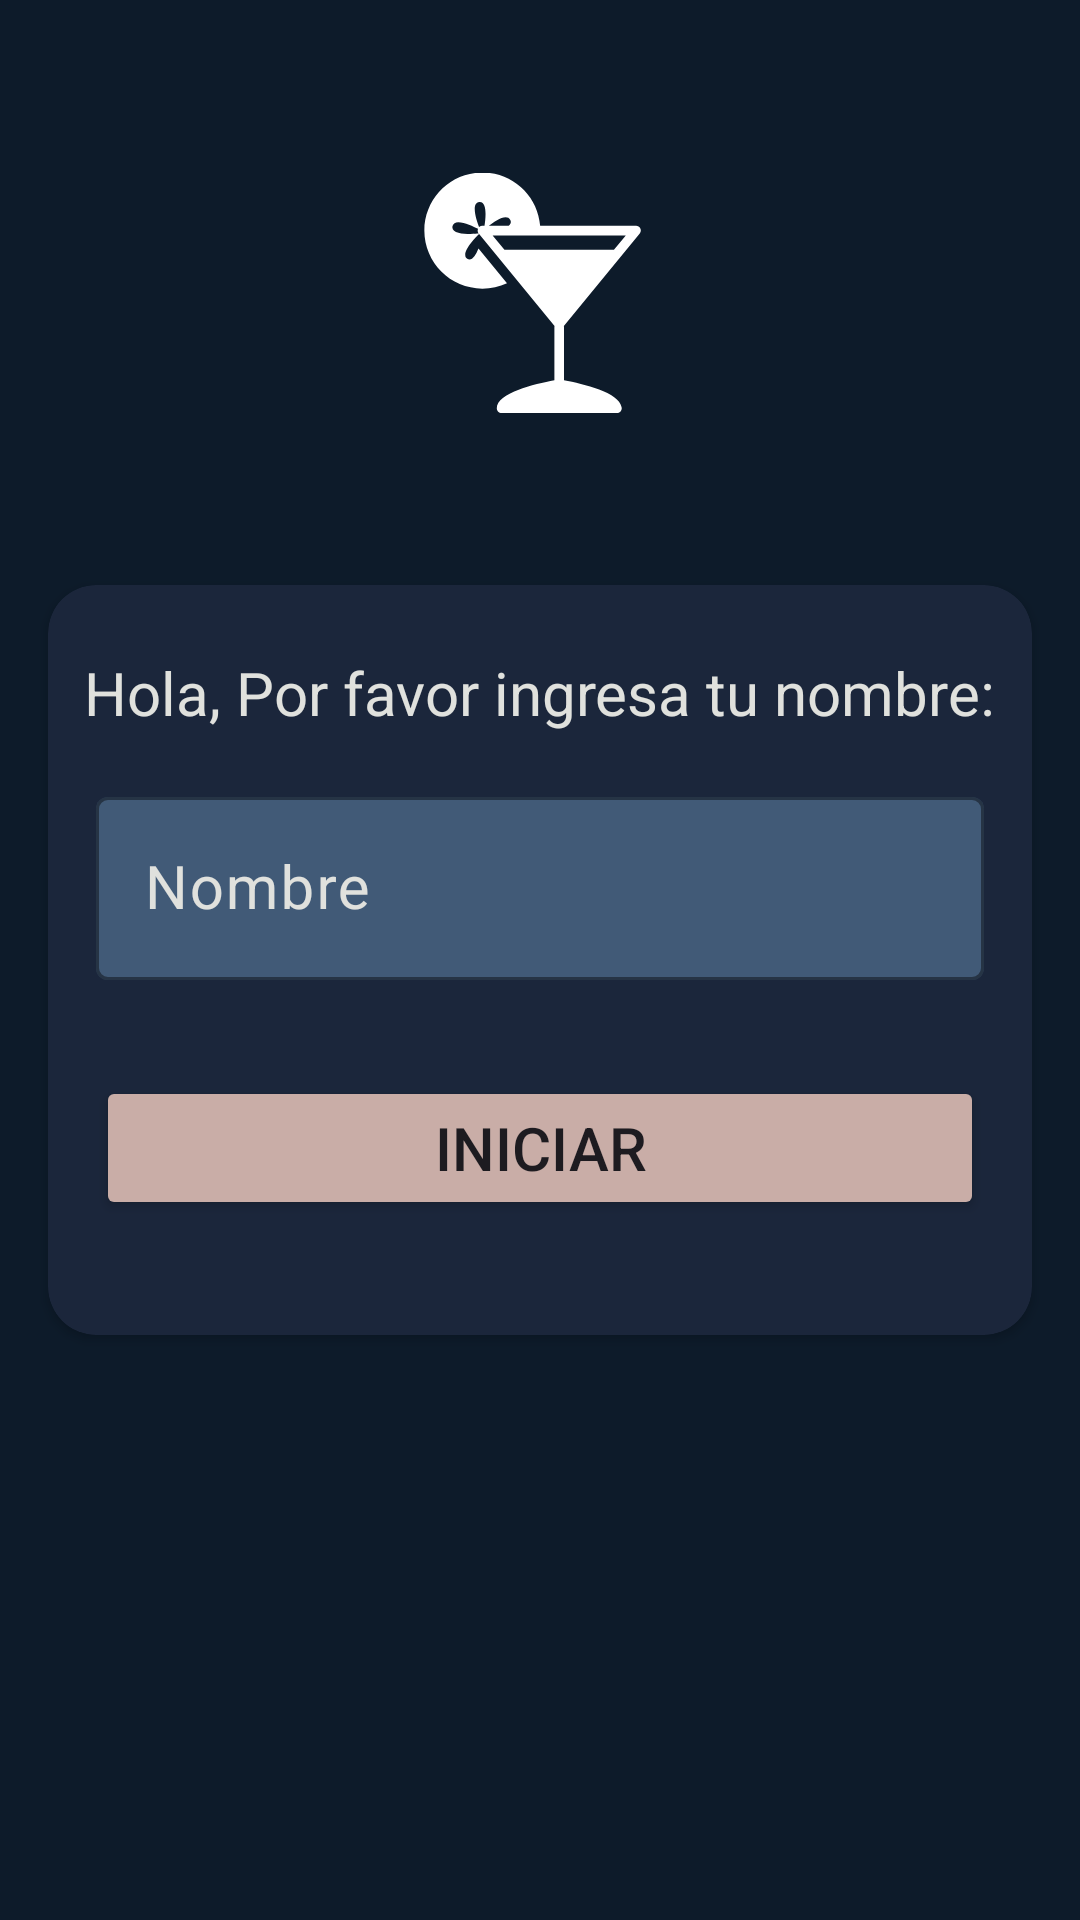

Screen size 1080 × 1920. Icon name, then its center in pixels as (x=x, y=y):
cocktail: (x=532, y=293)
